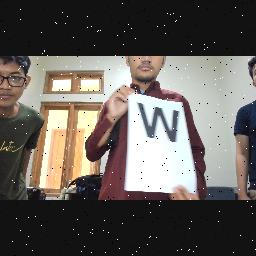w: (131, 102, 189, 146)
